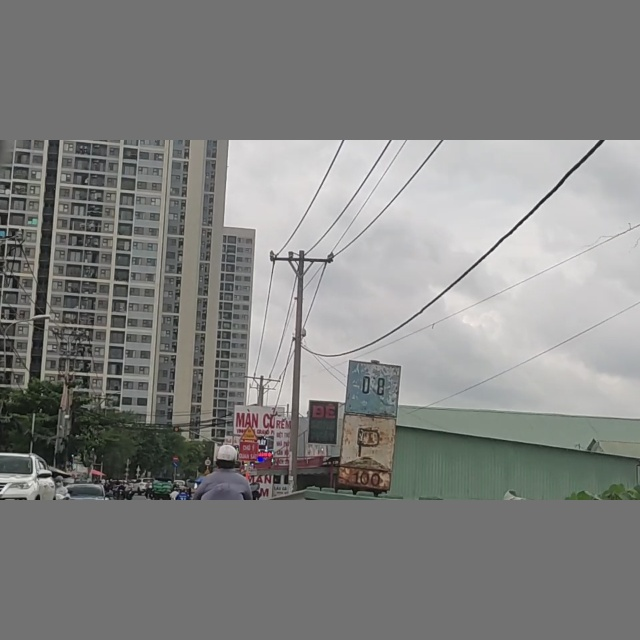W.245a: (239, 425, 260, 441)
